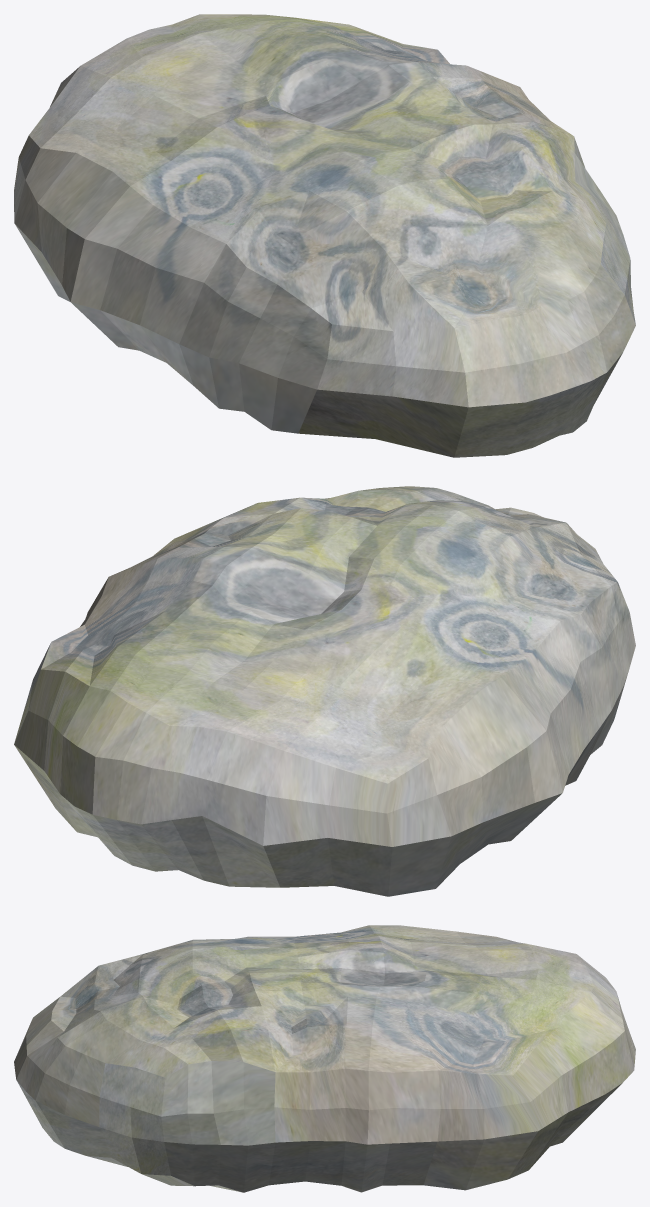
Rendered from boulderart3.fbx.
The picture shows the model from 3 angles, top to bottom: view 1: azimuth 30°, elevation 25°; view 2: azimuth 150°, elevation 25°; view 3: azimuth 270°, elevation 25°; orthographic projection. The views are drawn at different scales.
Parts seen in each view (by area): view 1: Cube; view 2: Cube; view 3: Cube.
Boxes of the visible parts, x1,y1,x2,y2 form: Cube: (14, 14, 635, 457); Cube: (14, 486, 635, 896); Cube: (14, 925, 635, 1192).
Bounding box in the file's own units: 272 × 128 × 390.
Materials: 1 (1 with a texture image).
